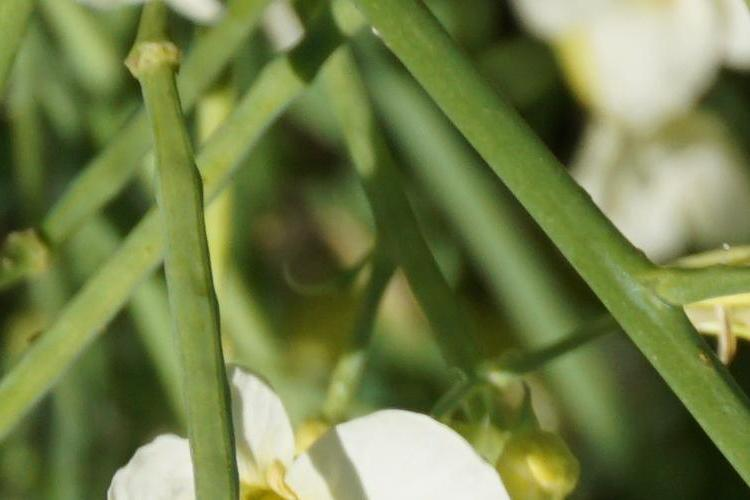white: (112, 363, 528, 500)
